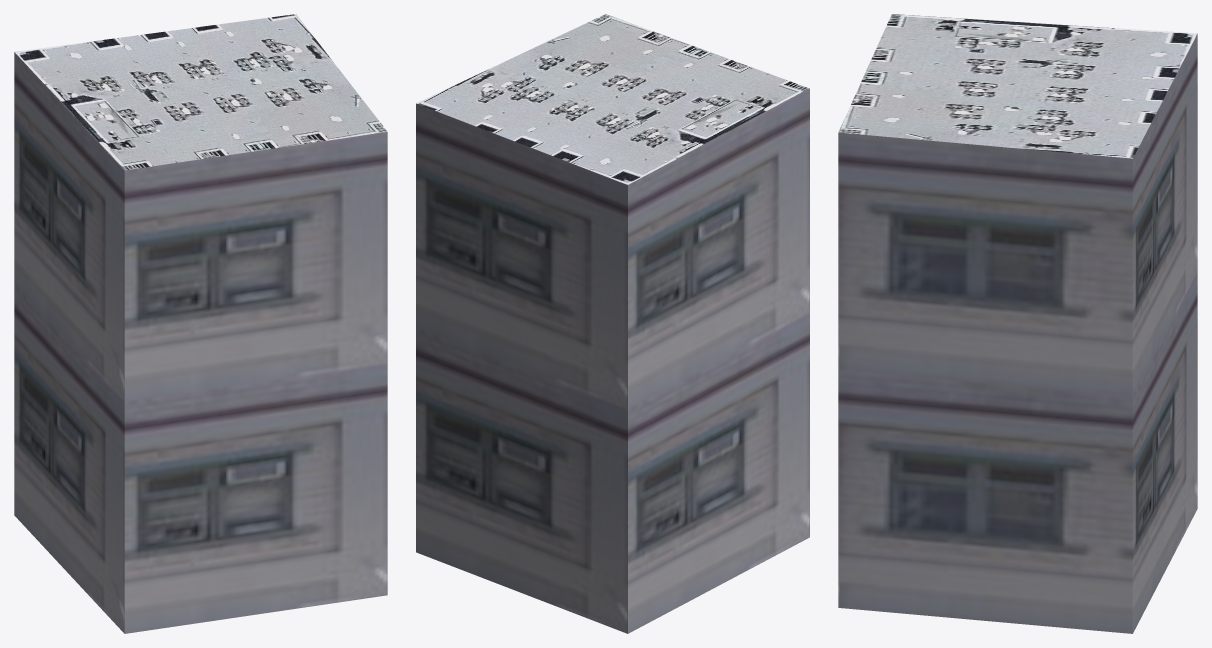
Rendered from ResTex__2622.fbx.
The picture shows the model from 3 angles, left to right: view 1: azimuth 30°, elevation 25°; view 2: azimuth 150°, elevation 25°; view 3: azimuth 270°, elevation 25°; orthographic projection. The views are drawn at different scales.
Parts seen in each view (by area): view 1: CityEngineMaterial_1_m, CityEngineMaterial_m; view 2: CityEngineMaterial_1_m, CityEngineMaterial_m; view 3: CityEngineMaterial_1_m, CityEngineMaterial_m.
Boxes of the visible parts, box(x1,y1,x2,y2) form: CityEngineMaterial_1_m: box(14, 52, 387, 633); CityEngineMaterial_m: box(15, 14, 387, 170); CityEngineMaterial_1_m: box(416, 88, 809, 633); CityEngineMaterial_m: box(416, 14, 809, 184); CityEngineMaterial_1_m: box(838, 34, 1197, 633); CityEngineMaterial_m: box(838, 14, 1197, 158).
Bounding box in the file's own units: 3.92 × 6 × 4.11.
Materials: 2 (2 with a texture image).
